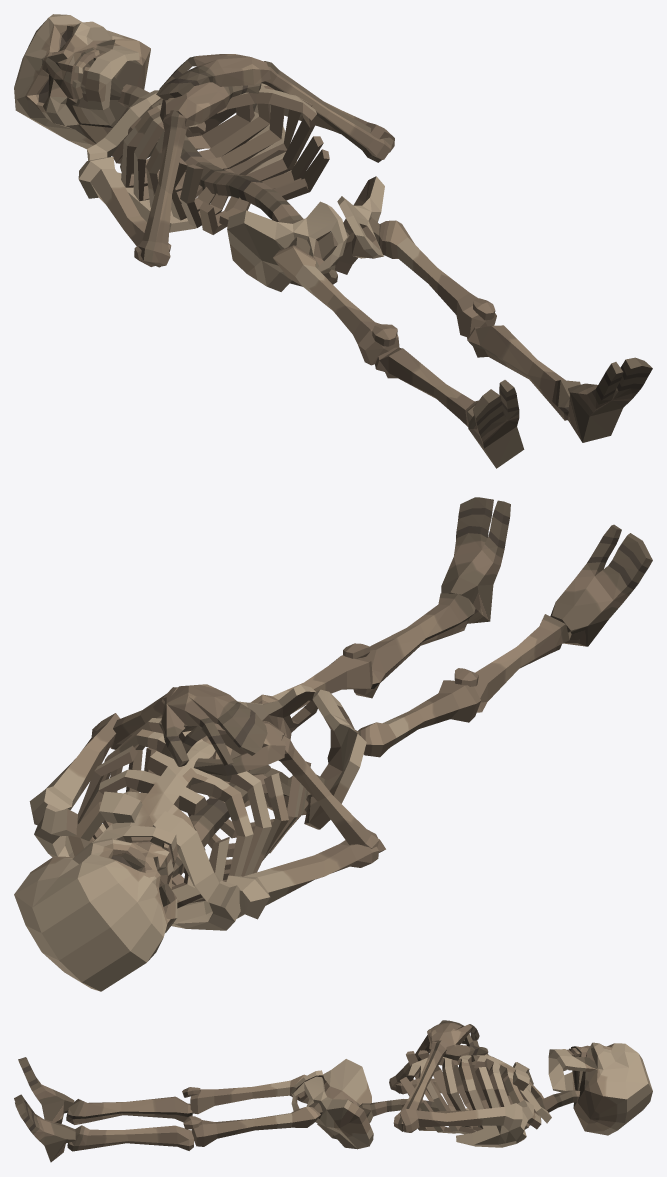
File: crypt_skeleton_b.gltf
3 renders of one model, top to bottom at view 1: azimuth 30°, elevation 25°; view 2: azimuth 150°, elevation 25°; view 3: azimuth 270°, elevation 25°, orthographic. The views are drawn at different scales.
Parts seen in each view (by area): view 1: crypt_skeleton_b; view 2: crypt_skeleton_b; view 3: crypt_skeleton_b.
Boxes of the visible parts, x1,y1,x2,y2 form: crypt_skeleton_b: (14,14,652,468); crypt_skeleton_b: (14,497,652,991); crypt_skeleton_b: (14,1020,652,1162).
Bounding box in the file's own units: 0.5695 × 0.3715 × 1.87.
1 material, 1 textured.
